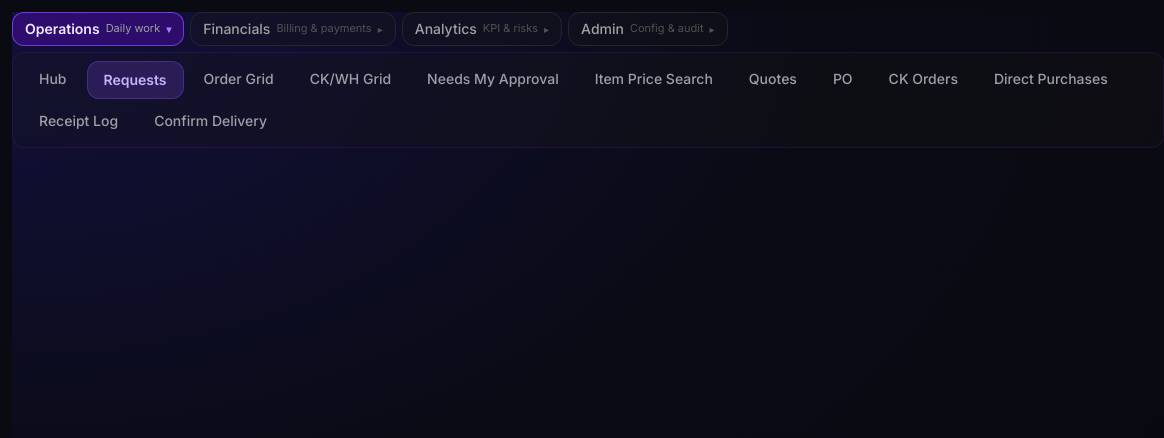
ProcurementTabs › Tabs visible for HQ (full access) › shows KPI in Analytics group
Click the text "Analytics".
click(446, 29)  # box [415,19,477,39]
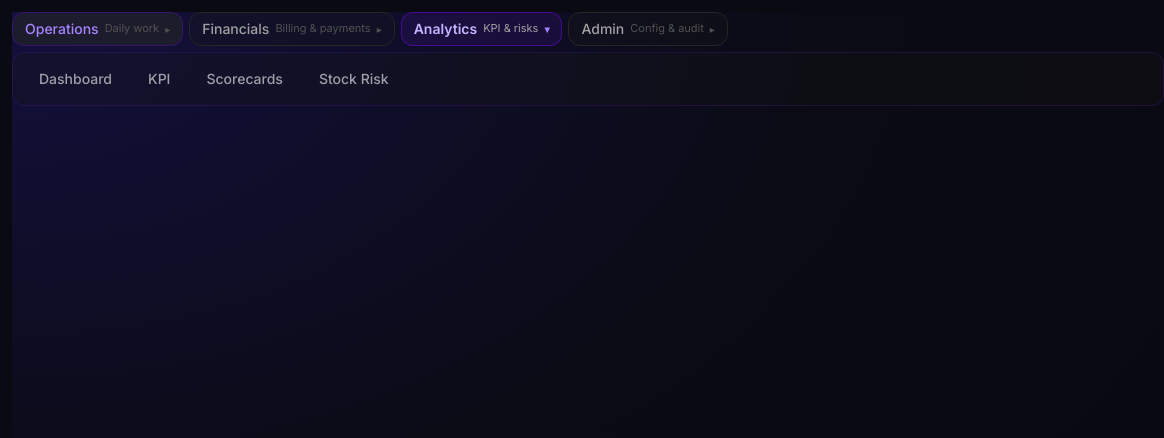
Check: the link "KPI" is shown, box [148,70,170,87]
